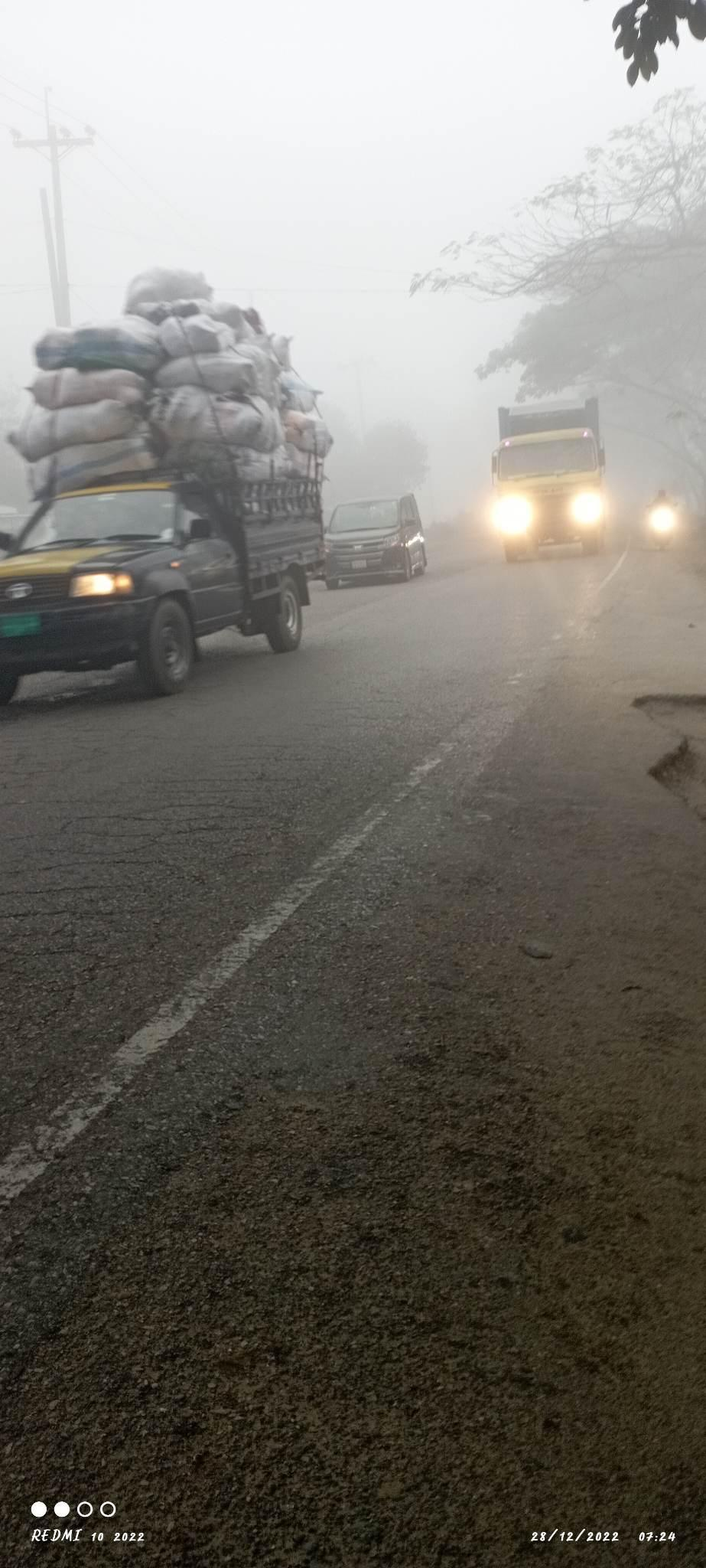Bike: (628, 479, 686, 569)
Car: (325, 476, 438, 608)
Truck: (19, 266, 354, 691), (478, 380, 625, 606)
